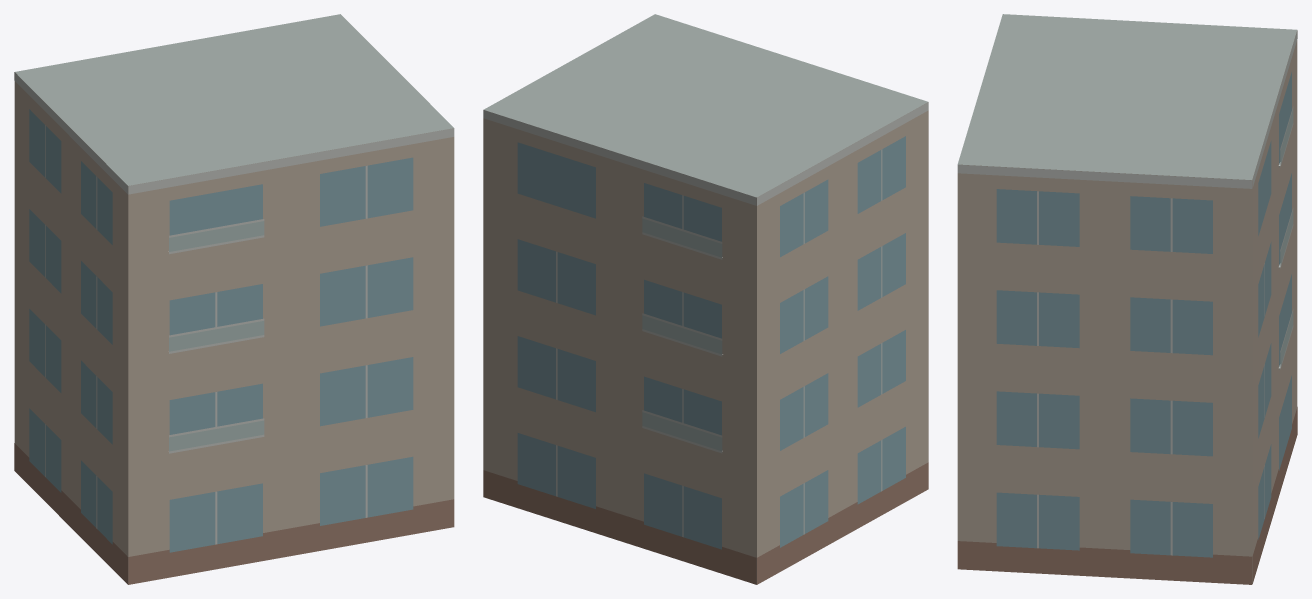
Rendered from survey-upis-33011900.glb.
3 renders of one model, left to right at view 1: azimuth 30°, elevation 25°; view 2: azimuth 150°, elevation 25°; view 3: azimuth 270°, elevation 25°, orthographic. The views are drawn at different scales.
Parts seen in each view (by area): view 1: survey-upis-33011900.tmp; view 2: survey-upis-33011900.tmp; view 3: survey-upis-33011900.tmp.
Boxes of the visible parts, left/top/right/bottom form: survey-upis-33011900.tmp: left=14, top=14, right=454, bottom=584; survey-upis-33011900.tmp: left=483, top=14, right=928, bottom=584; survey-upis-33011900.tmp: left=957, top=14, right=1297, bottom=584.
Size of the model in its own units: 9.87 by 11.2 by 8.54.
